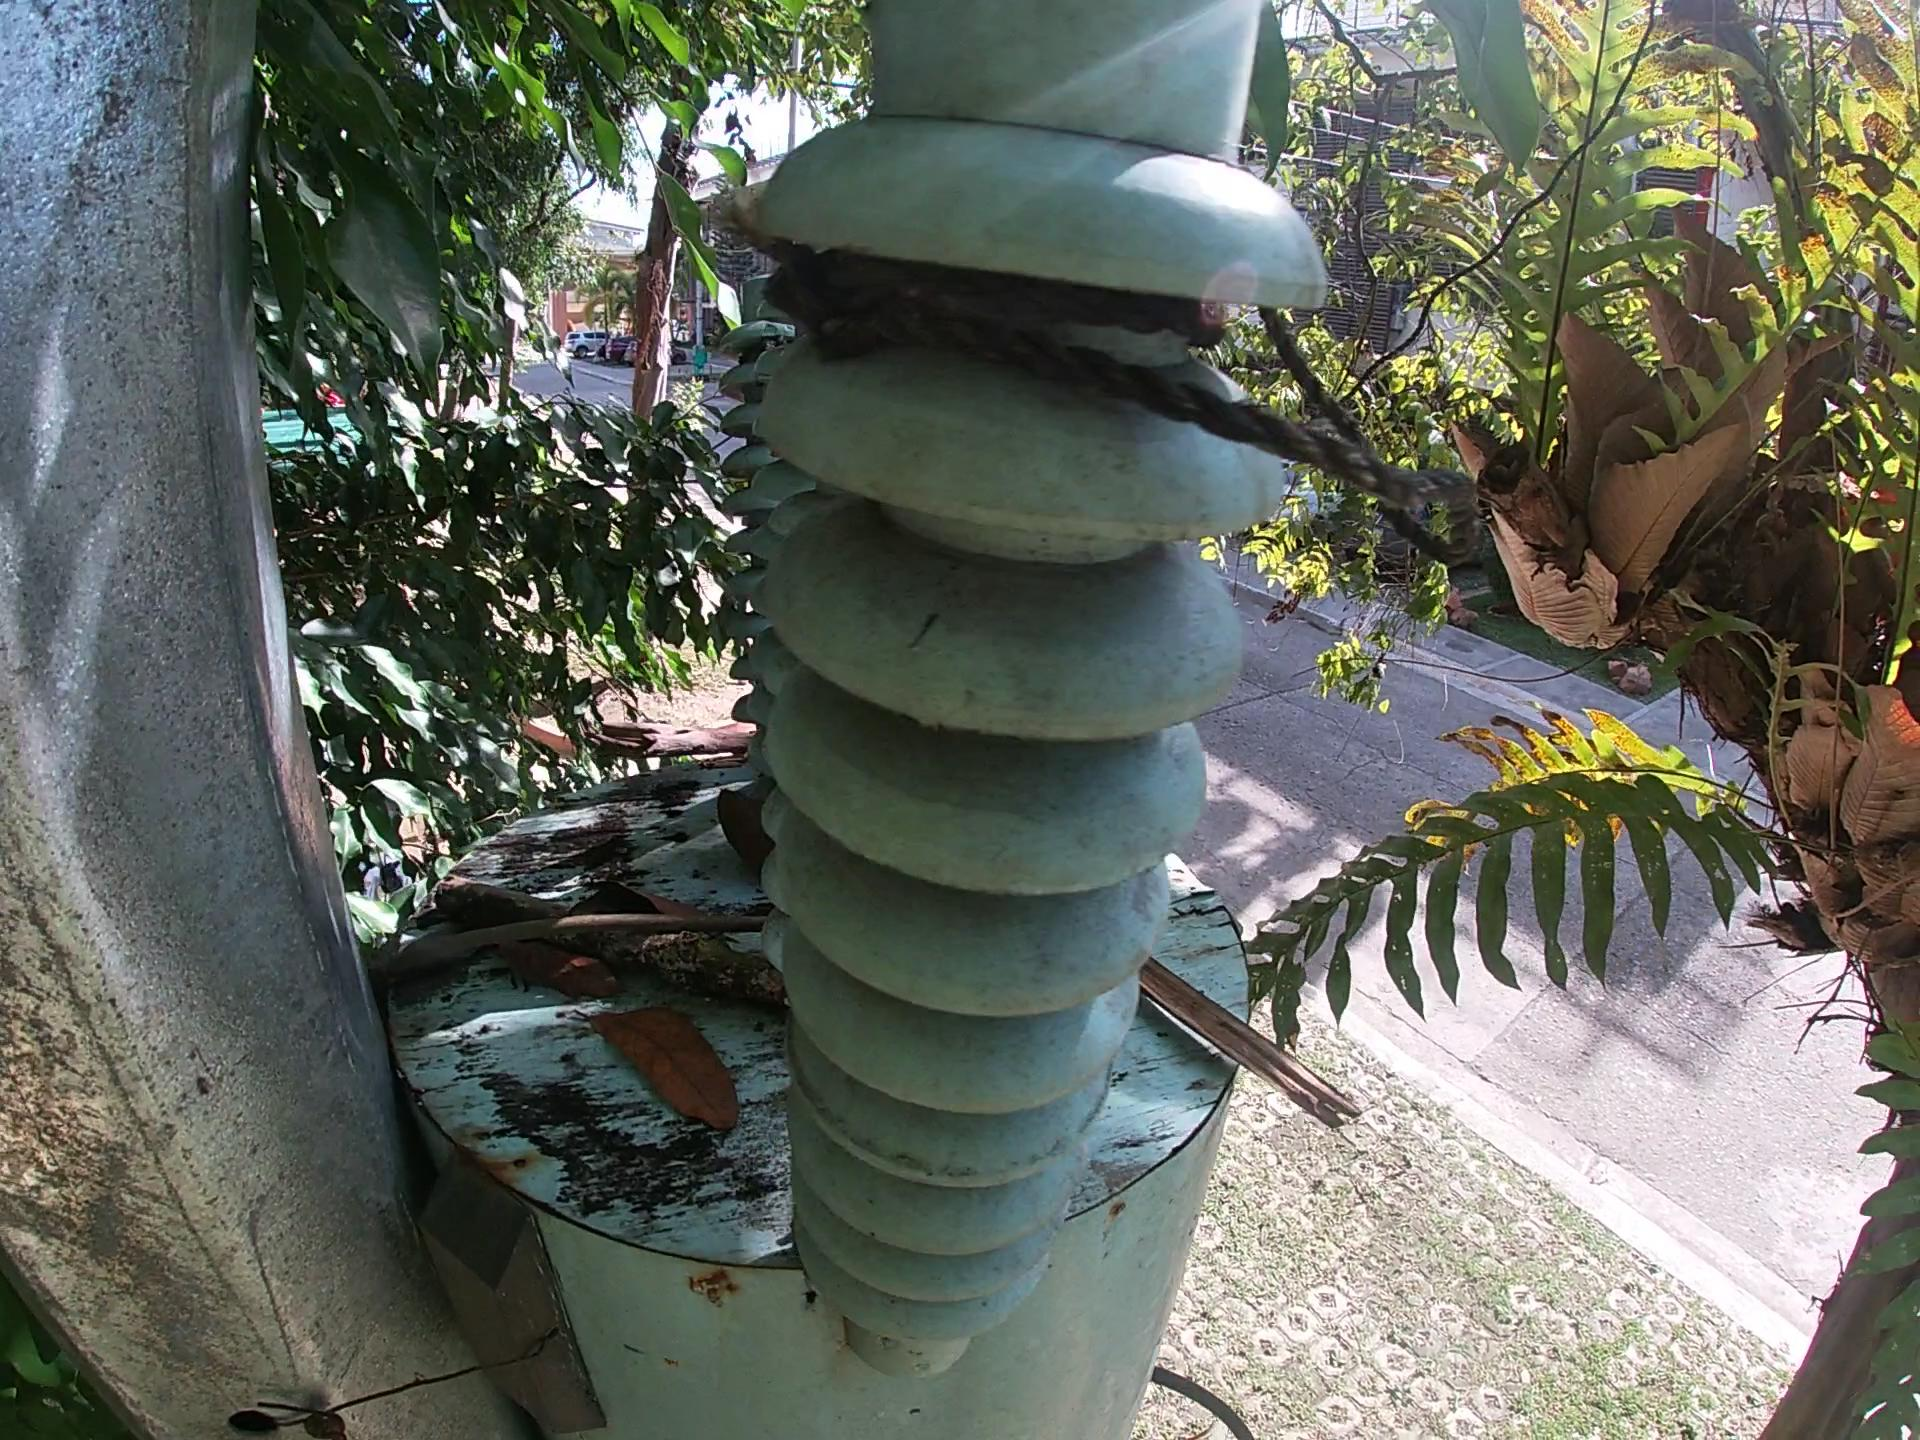leaf: (574, 1003, 748, 1137), (491, 936, 627, 997), (559, 885, 706, 918)
mahogany fruit: (708, 782, 780, 874)
tree branch: (428, 877, 794, 1012), (1131, 950, 1365, 1141), (381, 911, 766, 985), (581, 714, 757, 762)
